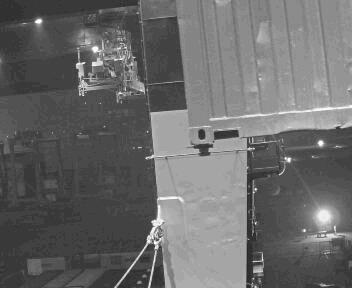twist_lock_1: (170, 156, 230, 195)
